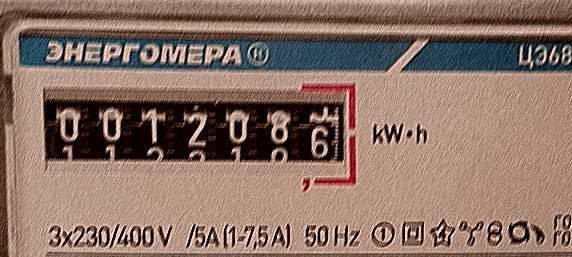0: (53, 105, 80, 144), (97, 106, 122, 144), (223, 108, 247, 145)
1: (139, 107, 161, 146)
2: (182, 111, 208, 149)
6: (305, 124, 328, 161)
8: (264, 109, 289, 146)
screen: (33, 77, 364, 196)
